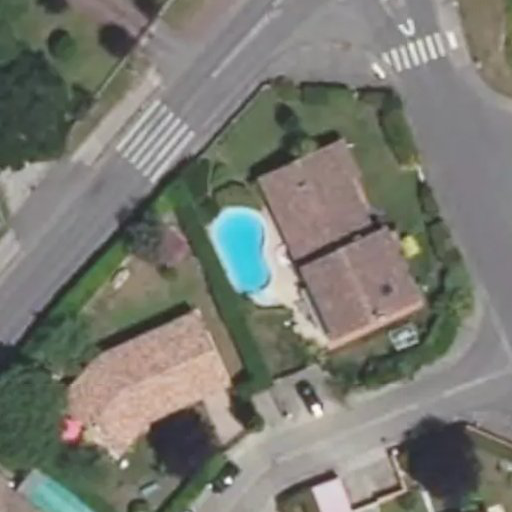pool: (224, 209, 296, 274)
